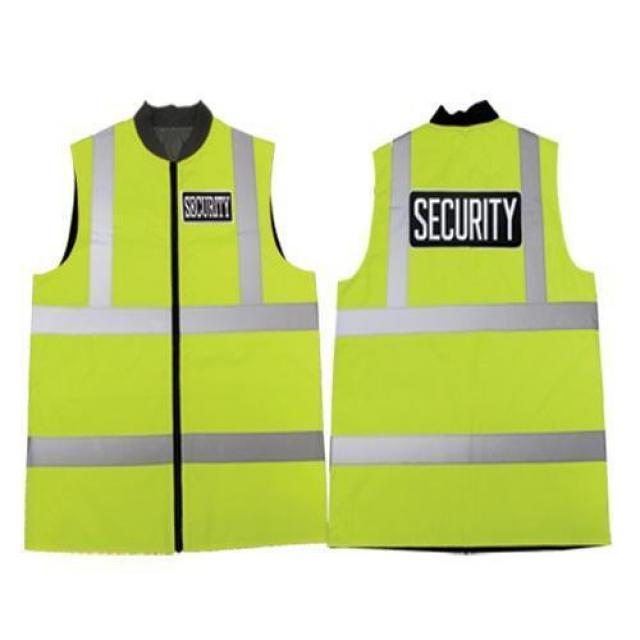vest: (20, 102, 329, 548), (328, 98, 613, 548)
